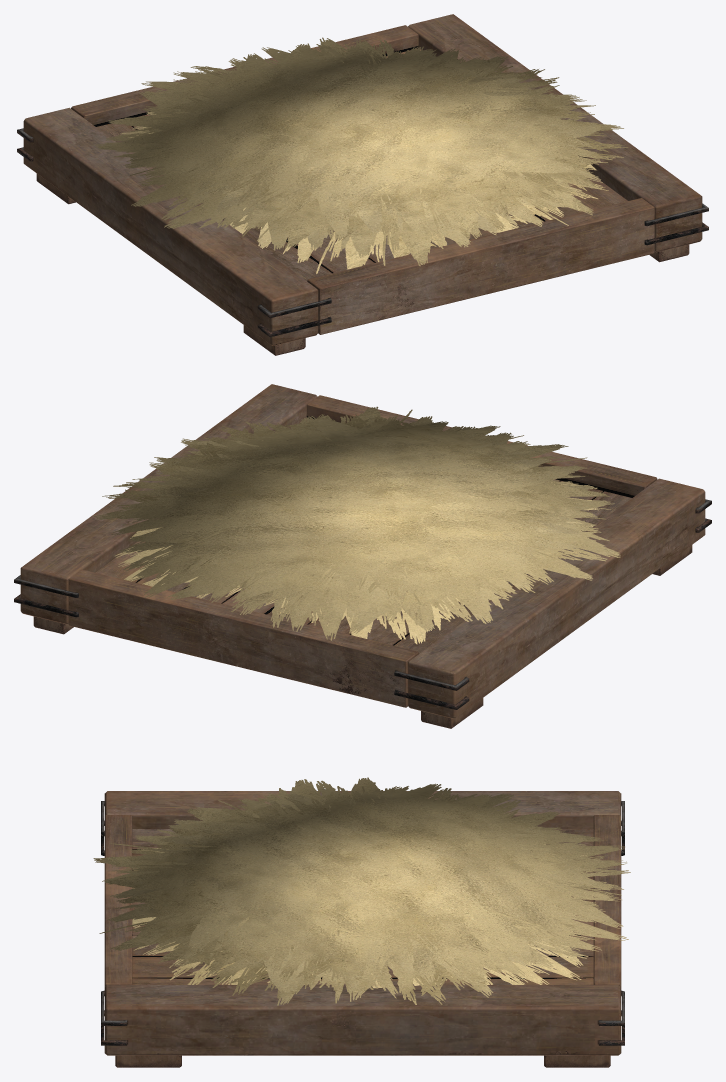
Rendered from PalBed.fbx.
3 views of the same model, one above another, from view 1: azimuth 30°, elevation 25°; view 2: azimuth 150°, elevation 25°; view 3: azimuth 270°, elevation 25° (orthographic). The views are drawn at different scales.
Visible parts, largest first — view 1: SM_PalBedPrimitive.mo; view 2: SM_PalBedPrimitive.mo; view 3: SM_PalBedPrimitive.mo.
Part boxes in pixels (left/top/right/bottom): SM_PalBedPrimitive.mo: left=17, top=14, right=708, bottom=355; SM_PalBedPrimitive.mo: left=14, top=384, right=711, bottom=728; SM_PalBedPrimitive.mo: left=93, top=777, right=630, bottom=1067.
Bounding box in the file's own units: 231 × 36.3 × 231.
